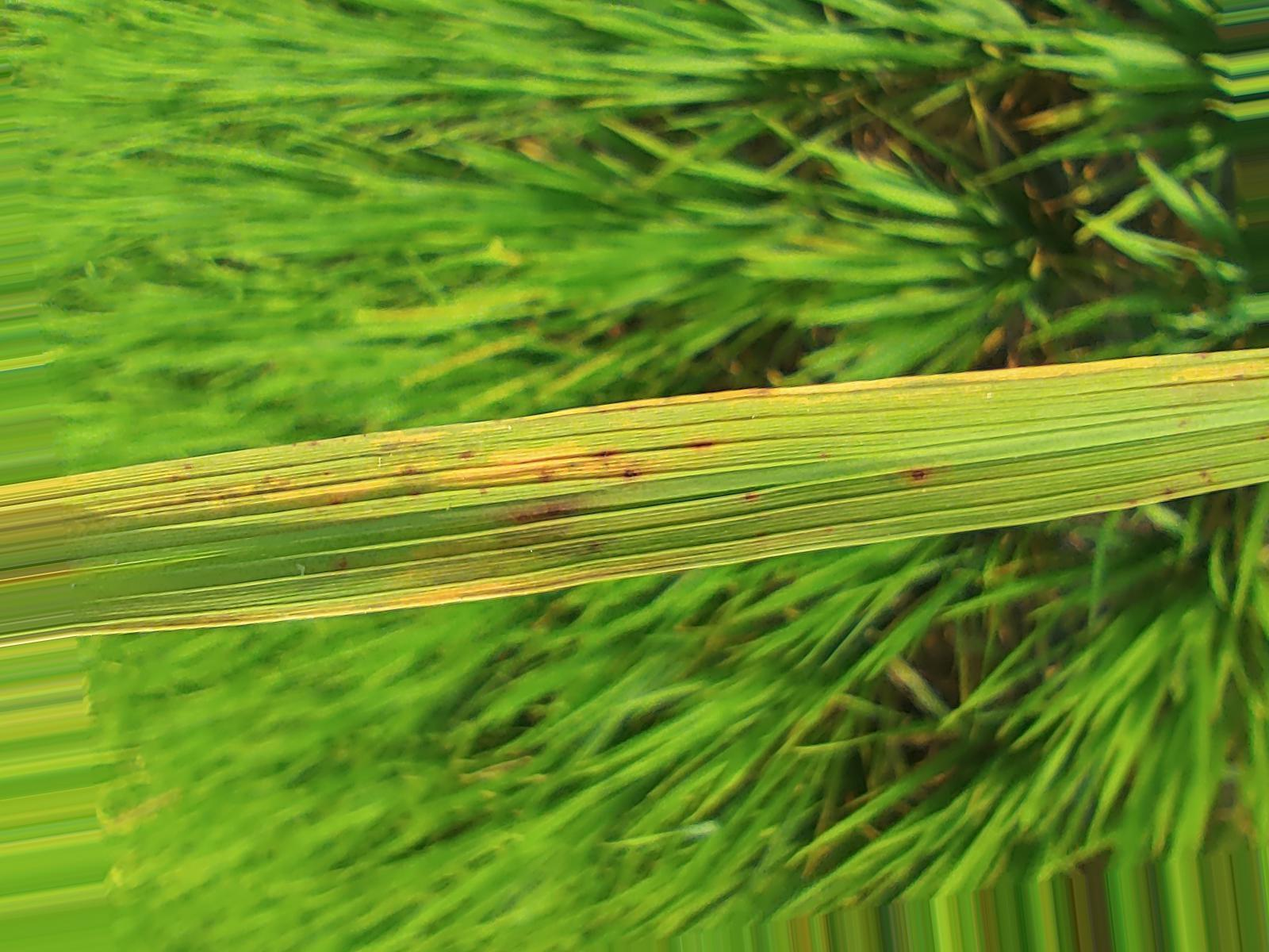LEAF: (66, 349, 1268, 634)
NBS: (506, 503, 577, 523), (331, 552, 351, 579), (586, 447, 627, 459), (1196, 466, 1215, 489), (682, 440, 717, 451), (1158, 486, 1176, 499), (817, 449, 832, 464), (1256, 430, 1268, 445), (1178, 415, 1189, 430), (1124, 496, 1138, 505), (1094, 491, 1103, 504)
